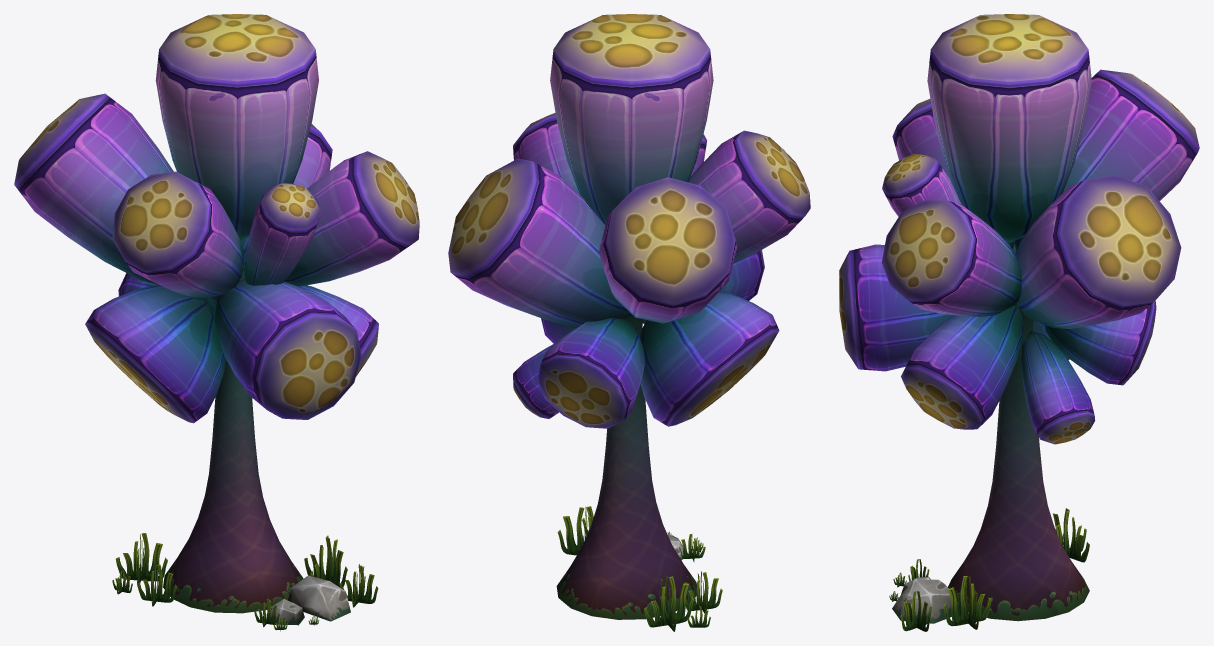
The model's file is strange_forest_tree06.fbx.
3 renders of one model, left to right at view 1: azimuth 30°, elevation 25°; view 2: azimuth 150°, elevation 25°; view 3: azimuth 270°, elevation 25°, orthographic.
Visible parts, largest first — view 1: strangeForestTree06; view 2: strangeForestTree06; view 3: strangeForestTree06.
Part boxes in pixels (x1,y1,x2,y2): strangeForestTree06: [14, 14, 419, 631]; strangeForestTree06: [448, 14, 810, 631]; strangeForestTree06: [839, 14, 1199, 631].
Size of the model in its own units: 82.62 by 144 by 84.04.
Materials: 1 (1 with a texture image).
